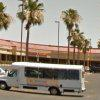Bus: (8, 54, 90, 96)
